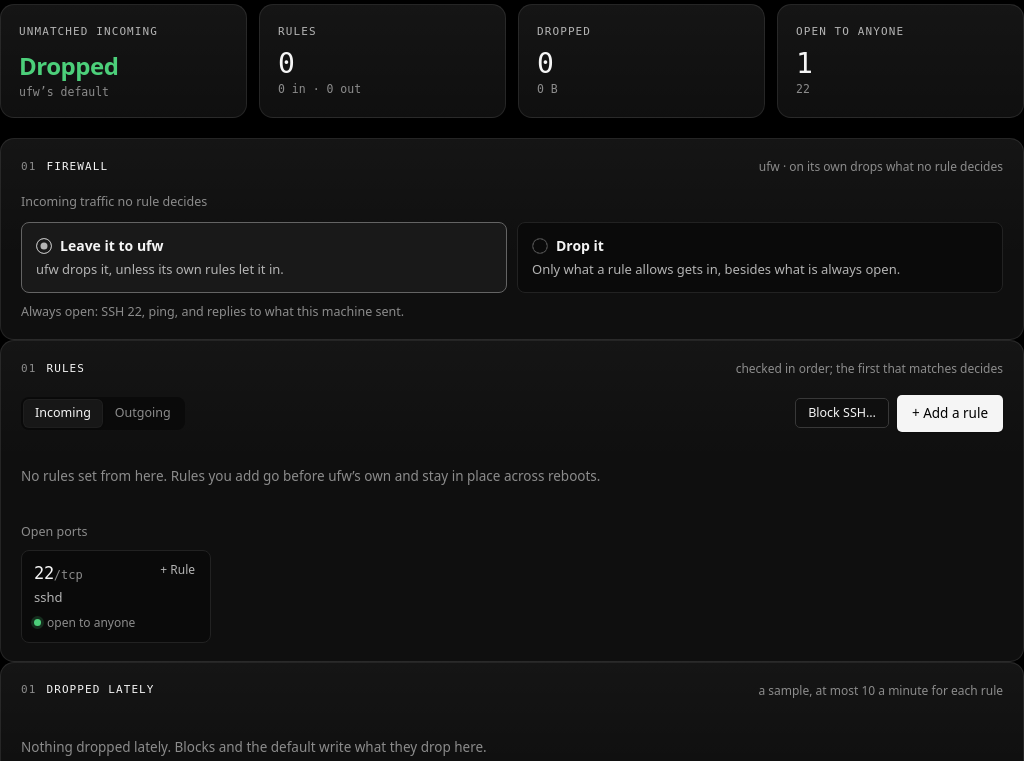
Firewall manager › Secure email adds the mail rules: 25 open, TLS ports limited, plain-text IMAP and POP3 blocked
The width and height of the screenshot is (1024, 761).
Step 1. Click the button "+ Add a rule" → (950, 413), box [897,395,1003,432]
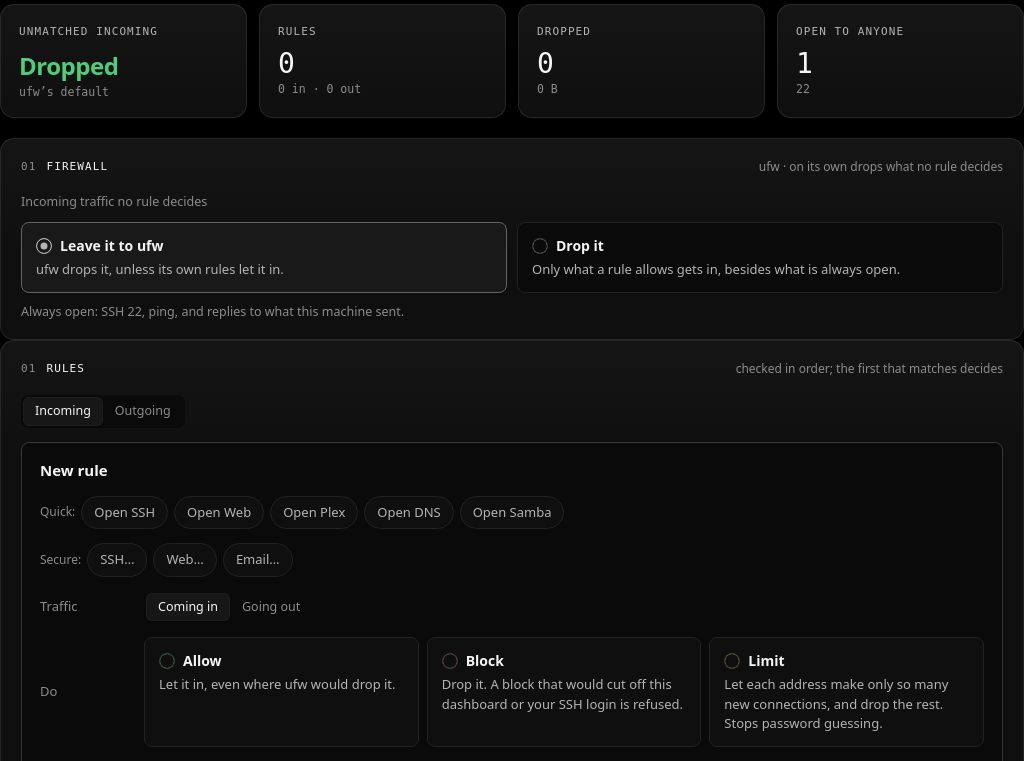
Step 2. Click the button "Email…" → (258, 560), box [223,543,293,577]
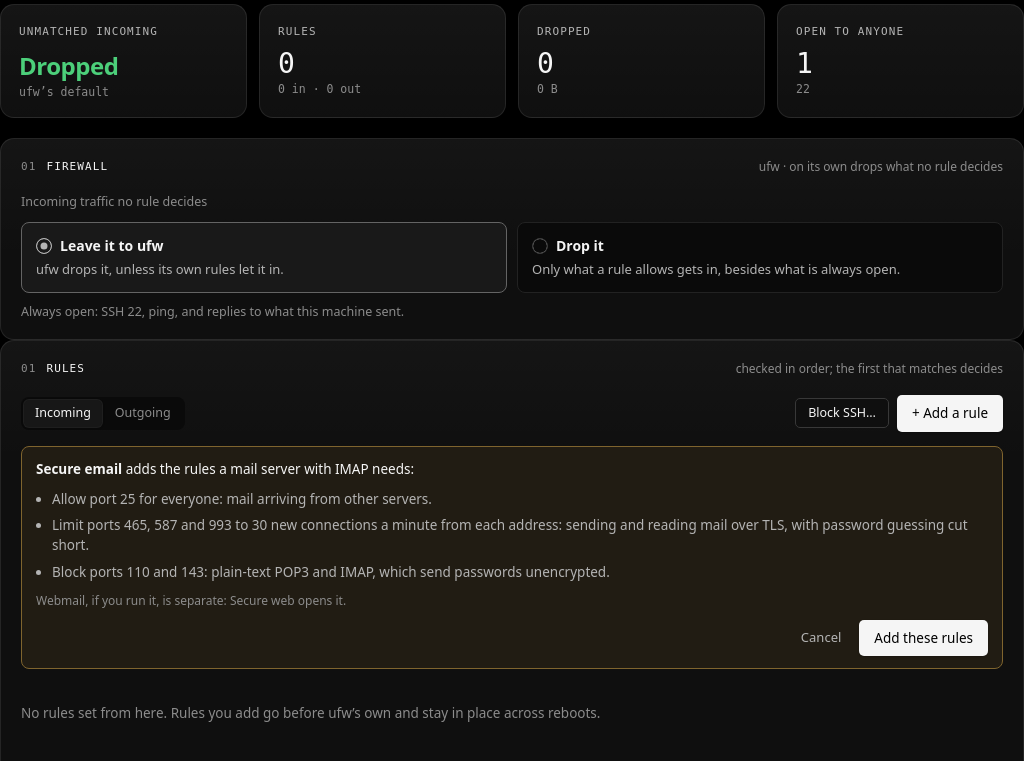
Result: the list item "Block ports 110 and 143" is shown at [52,563,610,581]
Step 3. Click the button "Add these rules" → (924, 638), box [859,620,988,656]
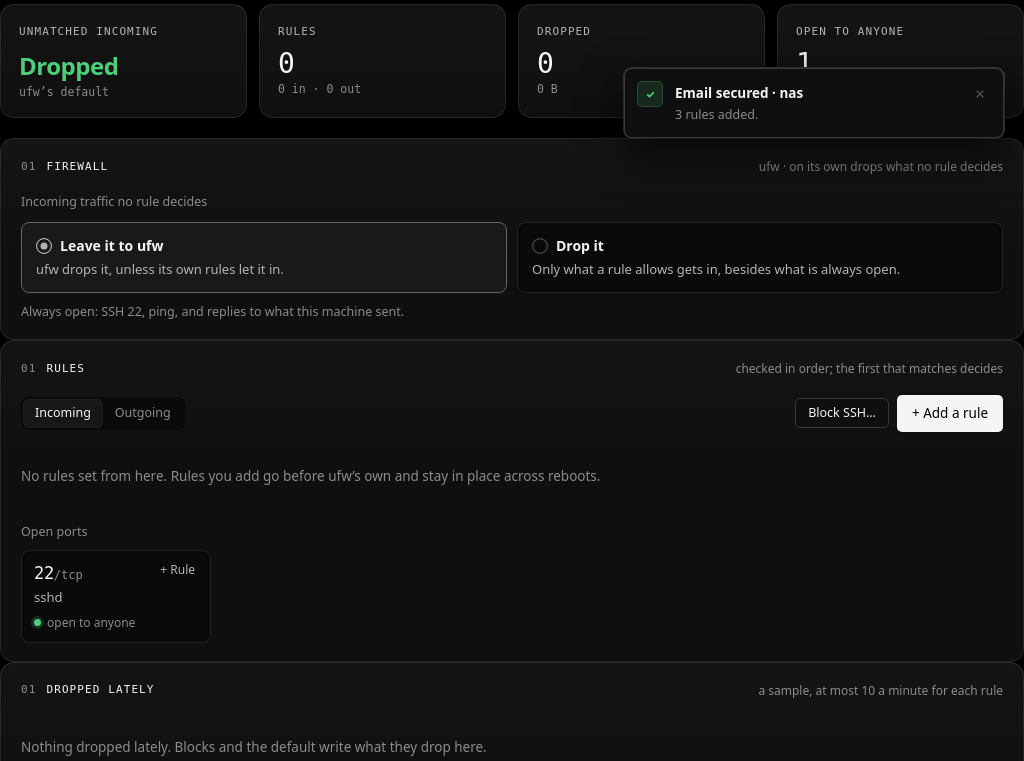
Result: the text "Secure email" is gone
